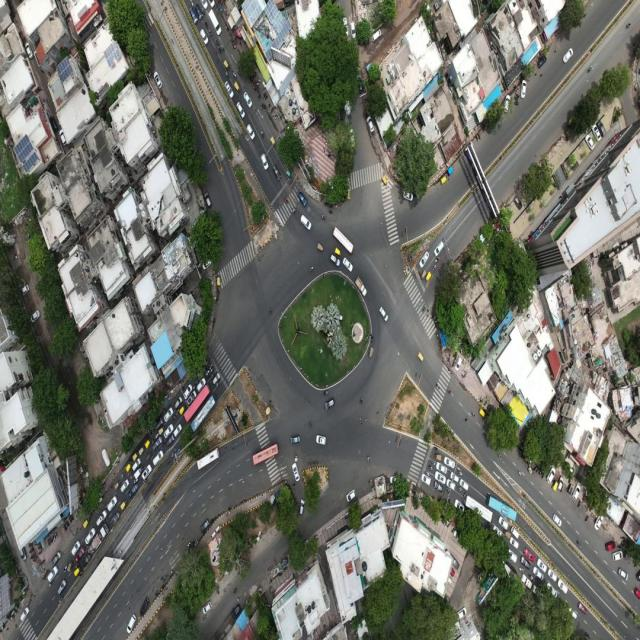3W: (414, 350, 426, 366), (125, 456, 134, 474), (232, 80, 242, 95), (267, 134, 277, 149), (142, 435, 152, 449), (445, 162, 455, 176), (418, 267, 428, 281), (366, 344, 375, 359), (119, 498, 129, 511), (333, 244, 342, 258), (478, 406, 487, 419), (114, 478, 122, 492), (145, 451, 153, 464), (504, 527, 512, 540), (136, 446, 146, 456), (433, 452, 442, 463), (67, 558, 73, 574), (82, 518, 90, 530), (222, 60, 230, 72), (440, 174, 448, 186), (317, 242, 324, 255), (382, 173, 388, 188), (74, 566, 82, 577), (426, 270, 432, 284), (552, 480, 559, 492), (158, 426, 166, 436), (132, 449, 138, 462), (179, 404, 185, 416)
Bus: (462, 489, 493, 533), (485, 486, 521, 523), (190, 392, 218, 435), (183, 383, 212, 424), (250, 439, 282, 469), (196, 442, 220, 474), (333, 224, 357, 256)
Cars: (124, 606, 138, 634), (299, 496, 312, 524), (138, 592, 152, 618), (297, 212, 313, 232), (378, 305, 392, 326), (94, 508, 108, 528), (56, 576, 68, 598), (590, 122, 602, 144), (546, 582, 558, 604), (153, 66, 163, 92), (562, 45, 575, 65), (296, 187, 308, 208), (432, 479, 446, 497), (433, 239, 446, 258), (245, 120, 256, 142), (536, 556, 550, 573), (46, 566, 59, 584), (522, 546, 535, 564), (498, 514, 511, 532), (340, 15, 350, 38), (593, 513, 605, 532), (521, 573, 533, 592), (291, 459, 300, 484), (434, 470, 450, 484), (345, 486, 359, 502), (51, 549, 64, 566), (557, 579, 570, 596), (343, 256, 354, 276), (419, 250, 430, 270), (106, 494, 118, 512), (547, 564, 559, 582), (202, 601, 214, 619), (272, 161, 282, 182), (596, 118, 607, 137), (231, 602, 242, 621), (401, 188, 414, 204), (512, 195, 525, 211), (322, 399, 338, 412), (128, 484, 140, 501), (577, 600, 589, 617), (445, 476, 457, 493), (111, 511, 121, 531), (366, 115, 376, 135), (243, 92, 254, 110), (443, 454, 457, 468), (18, 606, 31, 621), (532, 565, 545, 580), (84, 528, 96, 544), (153, 450, 165, 466), (371, 28, 383, 44), (617, 566, 629, 582), (520, 556, 532, 572), (506, 548, 518, 564), (316, 433, 328, 449), (188, 6, 198, 25), (200, 27, 210, 46), (260, 151, 269, 172), (19, 542, 28, 563), (199, 517, 210, 534), (436, 461, 449, 475), (71, 538, 81, 556), (75, 545, 85, 563), (204, 190, 213, 210), (224, 81, 234, 99), (546, 467, 556, 485), (492, 524, 502, 542), (421, 472, 433, 487), (152, 436, 163, 452), (349, 127, 357, 149), (510, 537, 521, 553), (454, 498, 466, 512), (459, 478, 473, 490), (163, 424, 174, 439), (330, 254, 341, 269), (195, 4, 204, 22), (502, 94, 511, 112), (173, 423, 183, 439), (236, 102, 246, 118), (520, 79, 528, 99), (552, 512, 562, 528), (604, 540, 617, 552), (288, 433, 300, 446), (357, 75, 364, 97), (184, 383, 193, 400), (82, 553, 92, 568), (196, 376, 206, 391), (350, 18, 357, 39), (585, 134, 594, 150), (572, 483, 580, 501), (612, 550, 624, 562), (120, 479, 130, 493), (132, 458, 142, 472), (164, 408, 174, 422), (187, 391, 197, 405), (212, 372, 222, 386), (537, 55, 547, 69), (510, 526, 520, 540), (388, 475, 402, 485), (174, 395, 183, 410), (557, 474, 564, 493), (142, 465, 152, 478), (450, 472, 460, 485), (167, 435, 176, 449), (155, 417, 163, 432)
LCV: (208, 8, 223, 36), (354, 274, 368, 299), (282, 160, 293, 180), (133, 466, 143, 480)
M2W: (306, 412, 314, 432), (454, 480, 464, 493), (357, 389, 364, 406), (213, 582, 221, 596), (584, 64, 594, 74), (495, 448, 502, 462), (321, 386, 329, 398), (307, 263, 315, 275), (258, 127, 265, 140), (474, 128, 481, 140), (435, 382, 442, 394), (584, 627, 591, 639), (291, 479, 297, 493), (232, 584, 239, 596), (228, 502, 234, 515), (203, 16, 209, 29), (469, 407, 476, 418), (365, 453, 372, 464), (214, 35, 220, 47), (443, 486, 451, 495), (430, 458, 436, 470), (577, 538, 582, 552), (517, 467, 523, 478), (208, 27, 213, 40), (516, 566, 524, 574), (327, 207, 334, 216), (431, 264, 438, 273), (528, 572, 535, 581), (40, 558, 46, 568), (64, 518, 70, 528), (206, 357, 212, 367), (236, 67, 242, 77), (625, 21, 631, 31), (446, 386, 452, 396), (371, 331, 375, 346), (187, 0, 195, 7), (74, 561, 80, 570), (62, 524, 68, 533), (201, 7, 207, 16), (224, 71, 230, 80), (284, 196, 290, 205), (70, 512, 75, 522), (232, 68, 237, 78), (474, 132, 479, 142), (58, 597, 65, 604), (424, 469, 431, 476), (28, 547, 34, 555), (80, 570, 86, 578), (434, 255, 440, 263), (462, 416, 468, 424), (426, 464, 434, 470), (109, 483, 114, 492), (257, 77, 262, 86), (30, 553, 36, 560), (162, 439, 168, 446), (208, 362, 214, 369), (513, 100, 520, 106), (176, 407, 180, 417), (186, 542, 191, 550), (52, 532, 55, 545), (55, 532, 59, 541), (120, 472, 126, 478), (150, 439, 154, 448), (180, 384, 184, 393), (192, 384, 198, 390), (205, 368, 209, 377), (192, 538, 195, 550), (262, 91, 266, 100), (260, 102, 264, 111), (518, 449, 522, 458), (457, 470, 463, 476), (160, 585, 165, 592), (321, 213, 326, 220), (577, 500, 582, 507), (64, 563, 67, 574), (46, 538, 50, 546), (173, 414, 177, 422), (258, 94, 262, 102), (292, 207, 296, 215), (32, 557, 38, 562), (134, 478, 139, 484), (210, 368, 215, 374), (218, 44, 221, 54), (221, 47, 226, 53), (263, 104, 266, 114), (522, 451, 525, 461), (128, 469, 132, 476), (143, 479, 147, 486), (216, 381, 220, 388), (264, 95, 268, 102), (528, 459, 532, 466), (539, 467, 542, 476), (145, 434, 150, 439), (196, 378, 201, 383), (155, 433, 159, 439), (211, 373, 215, 379), (255, 90, 261, 94), (252, 80, 256, 86), (586, 517, 590, 523), (139, 475, 142, 482), (162, 408, 165, 415), (267, 103, 270, 110), (130, 474, 134, 479), (253, 87, 258, 91), (533, 466, 538, 470), (207, 376, 210, 382), (270, 109, 274, 113), (275, 114, 278, 119), (518, 95, 520, 102)
Truck: (87, 521, 109, 555)
